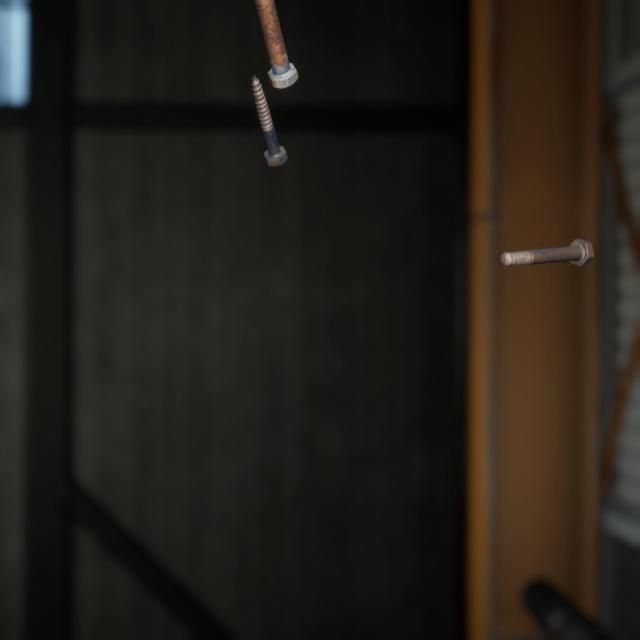bolt: (247, 58, 292, 158), (252, 0, 302, 84), (494, 218, 598, 255)
